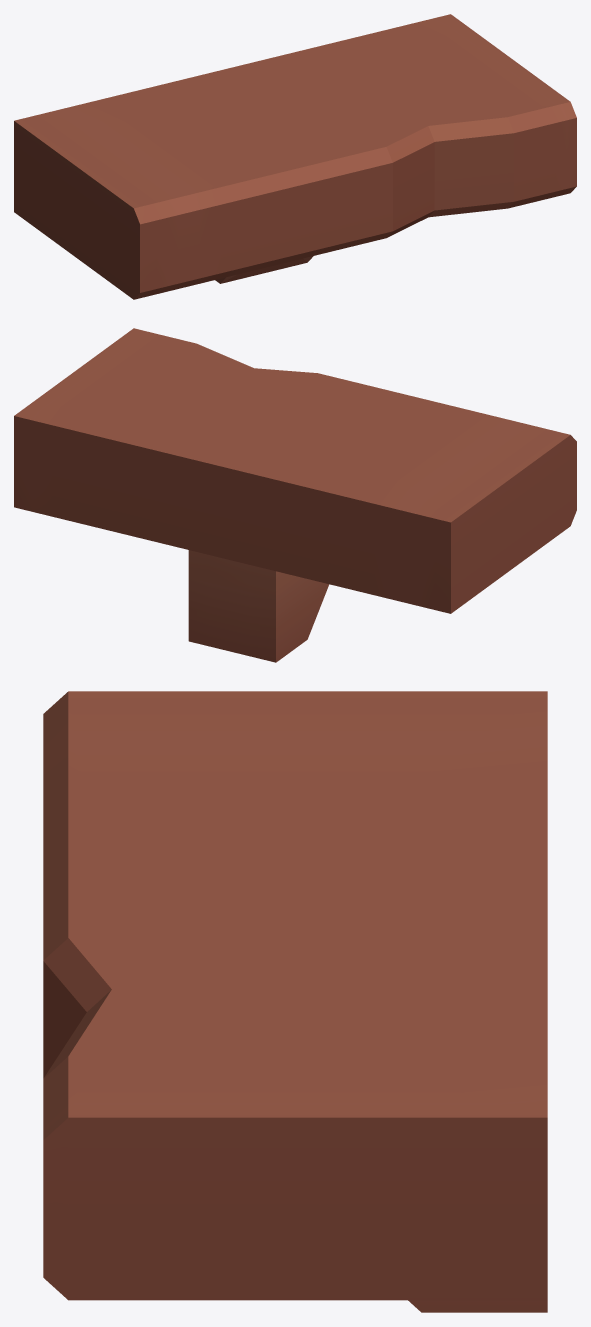
The model's file is d_kaykit_etagere.glb.
The picture shows the model from 3 angles, top to bottom: view 1: azimuth 30°, elevation 25°; view 2: azimuth 150°, elevation 25°; view 3: azimuth 270°, elevation 25°; orthographic projection. The views are drawn at different scales.
Parts seen in each view (by area): view 1: d_kaykit_etagere; view 2: d_kaykit_etagere; view 3: d_kaykit_etagere.
Part boxes in pixels (x1,y1,x2,y2): d_kaykit_etagere: (14, 14, 576, 299); d_kaykit_etagere: (14, 328, 576, 662); d_kaykit_etagere: (43, 691, 547, 1312).
Size of the model in its own units: 1 by 0.3999 by 0.5001.
1 material, 1 textured.
